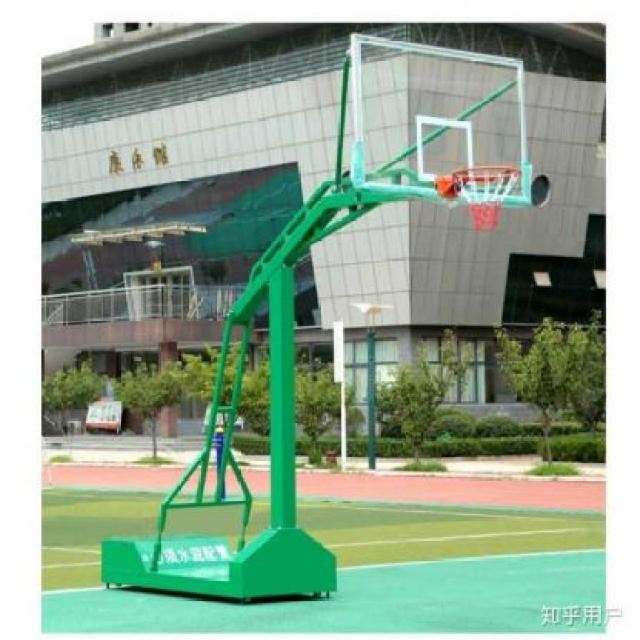rim: (449, 164, 518, 233)
